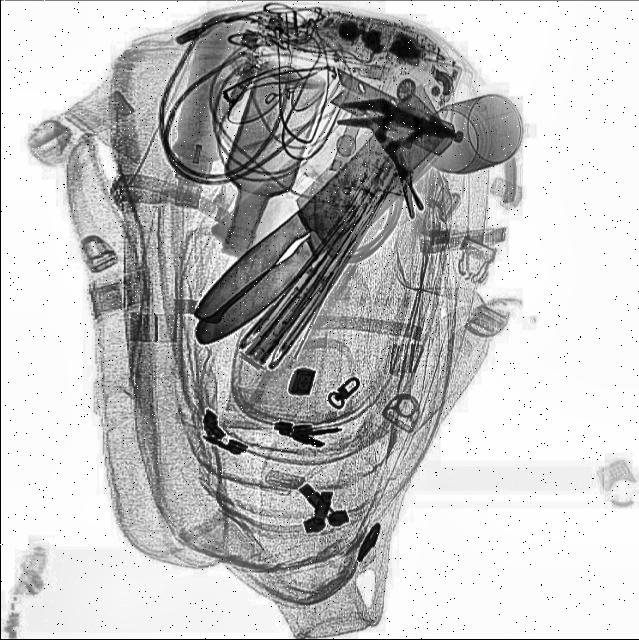Knife: (172, 81, 457, 372), (187, 86, 456, 362)
